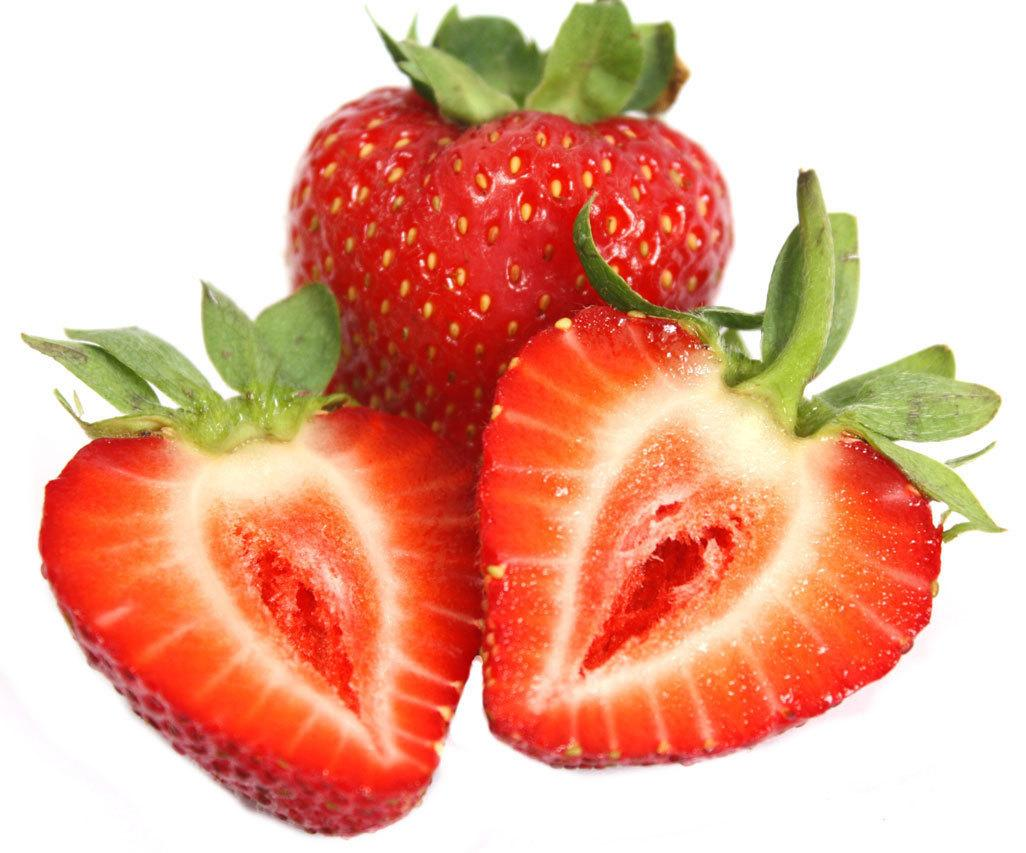strawberry: (466, 280, 984, 785), (10, 306, 491, 838), (282, 2, 763, 325)
